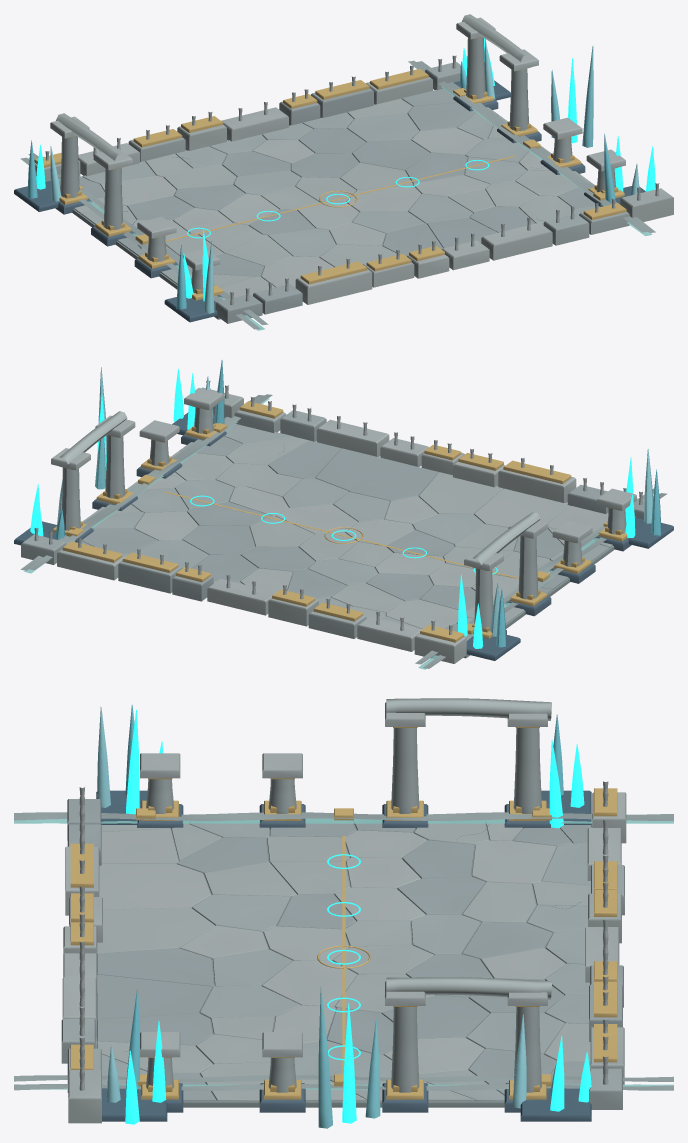
3 views of the same model, one above another, from view 1: azimuth 30°, elevation 25°; view 2: azimuth 150°, elevation 25°; view 3: azimuth 270°, elevation 25° (orthographic). The views are drawn at different scales.
Visible parts, largest first — view 1: courtyard--stone-pale, boundary-masonry--stone-pale, colonnade--stone-pale, boundary-masonry--trim-brass, crystal-spires--crystal, water-basins--stone-pale, crystal-spires--emissive, colonnade--trim-brass, crystal-spires--stone-dark, colonnade--stone-dark, courtyard--trim-brass, water-basins--trim-brass; view 2: courtyard--stone-pale, boundary-masonry--stone-pale, colonnade--stone-pale, boundary-masonry--trim-brass, crystal-spires--crystal, water-basins--stone-pale, crystal-spires--emissive, crystal-spires--stone-dark, colonnade--trim-brass, colonnade--stone-dark, courtyard--trim-brass, water-basins--trim-brass (+1 smaller); view 3: courtyard--stone-pale, colonnade--stone-pale, boundary-masonry--stone-pale, water-basins--stone-pale, boundary-masonry--trim-brass, crystal-spires--crystal, crystal-spires--emissive, crystal-spires--stone-dark, colonnade--stone-dark, colonnade--trim-brass, water-basins--water, courtyard--trim-brass (+2 smaller).
Part boxes in pixels (x1,y1,x2,y2): courtyard--stone-pale: (72, 88, 601, 319); boundary-masonry--stone-pale: (34, 55, 673, 323); colonnade--stone-pale: (50, 14, 625, 293); boundary-masonry--trim-brass: (34, 68, 626, 284); crystal-spires--crystal: (27, 39, 639, 313); water-basins--stone-pale: (20, 60, 655, 329); crystal-spires--emissive: (36, 38, 655, 301); colonnade--trim-brass: (59, 37, 624, 300); crystal-spires--stone-dark: (14, 80, 645, 322); colonnade--stone-dark: (55, 96, 603, 301); courtyard--trim-brass: (165, 155, 514, 241); water-basins--trim-brass: (79, 88, 605, 295); courtyard--stone-pale: (81, 424, 614, 658); boundary-masonry--stone-pale: (21, 381, 644, 663); colonnade--stone-pale: (51, 388, 636, 631); boundary-masonry--trim-brass: (62, 401, 571, 642); crystal-spires--crystal: (55, 360, 661, 647); water-basins--stone-pale: (20, 394, 667, 668); crystal-spires--emissive: (30, 368, 635, 648); crystal-spires--stone-dark: (14, 412, 673, 660); colonnade--trim-brass: (52, 406, 635, 638); colonnade--stone-dark: (52, 431, 631, 634); courtyard--trim-brass: (164, 491, 518, 578); water-basins--trim-brass: (66, 423, 607, 634); courtyard--stone-pale: (95, 819, 592, 1107); colonnade--stone-pale: (140, 698, 551, 1092); boundary-masonry--stone-pale: (61, 781, 626, 1123); water-basins--stone-pale: (14, 812, 673, 1090); boundary-masonry--trim-brass: (70, 788, 617, 1069); crystal-spires--crystal: (97, 704, 563, 1128); crystal-spires--emissive: (125, 710, 591, 1124); crystal-spires--stone-dark: (96, 790, 591, 1121); colonnade--stone-dark: (137, 804, 550, 1112); colonnade--trim-brass: (141, 727, 546, 1099); water-basins--water: (14, 818, 673, 1089); courtyard--trim-brass: (317, 836, 370, 1074).
Size of the model in its own units: 16.7 by 3.44 by 14.
